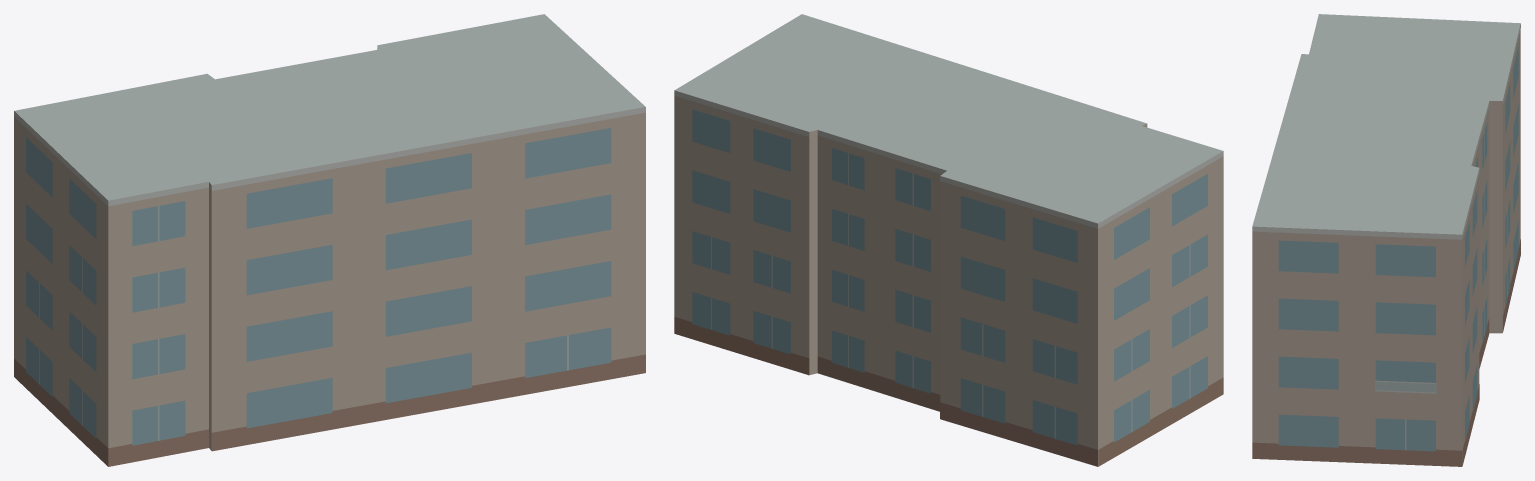
File: survey-upis-32637352.glb
3 renders of one model, left to right at view 1: azimuth 30°, elevation 25°; view 2: azimuth 150°, elevation 25°; view 3: azimuth 270°, elevation 25°, orthographic. The views are drawn at different scales.
Visible parts, largest first — view 1: survey-upis-32637352.tmp; view 2: survey-upis-32637352.tmp; view 3: survey-upis-32637352.tmp.
Boxes of the visible parts, x1,y1,x2,y2 form: survey-upis-32637352.tmp: [14, 14, 645, 466]; survey-upis-32637352.tmp: [674, 14, 1223, 466]; survey-upis-32637352.tmp: [1252, 14, 1520, 466].
Size of the model in its own units: 23.25 by 11.4 by 11.96.
